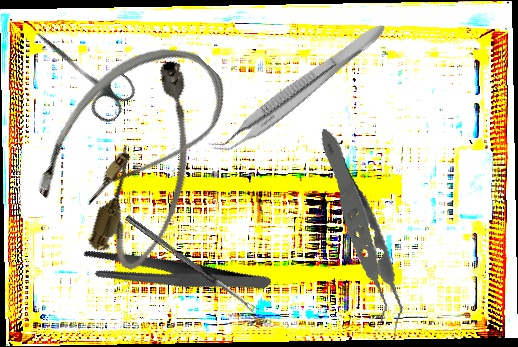Cannula: (15, 17, 244, 251), (83, 53, 222, 278)
Dressing Forceps: (77, 208, 273, 339)
Iris Scissors: (19, 15, 141, 127)
Surgical Spoon: (124, 214, 258, 315)
Tissue Forceps: (282, 128, 436, 343), (208, 11, 389, 166)
